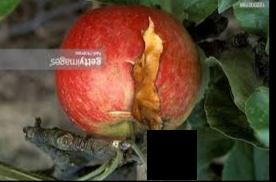rotten apple: (55, 5, 206, 137)
